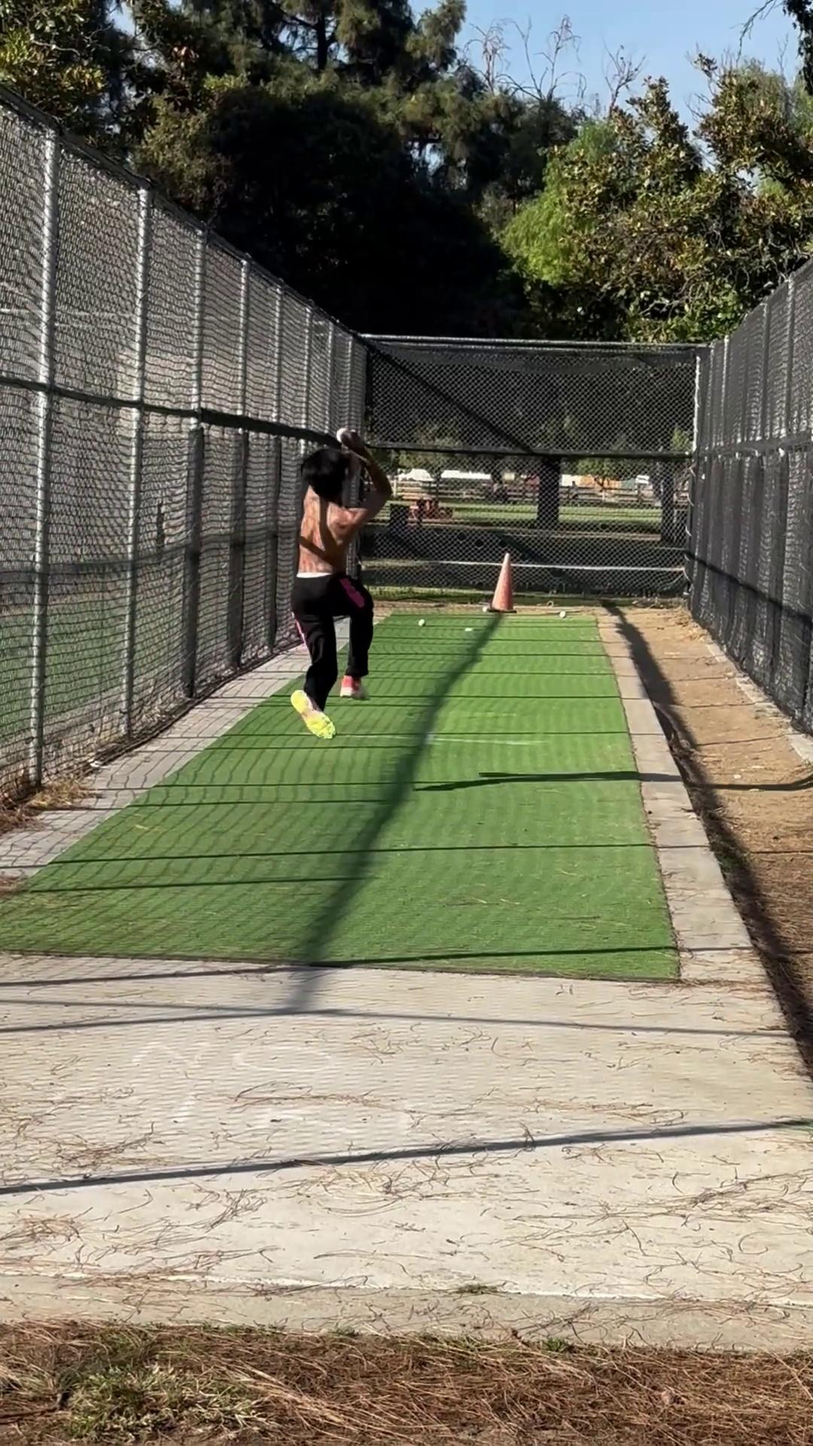ball: (327, 423, 356, 447)
